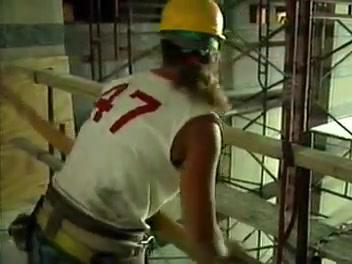no -hi-vis jacket: (76, 78, 224, 226)
